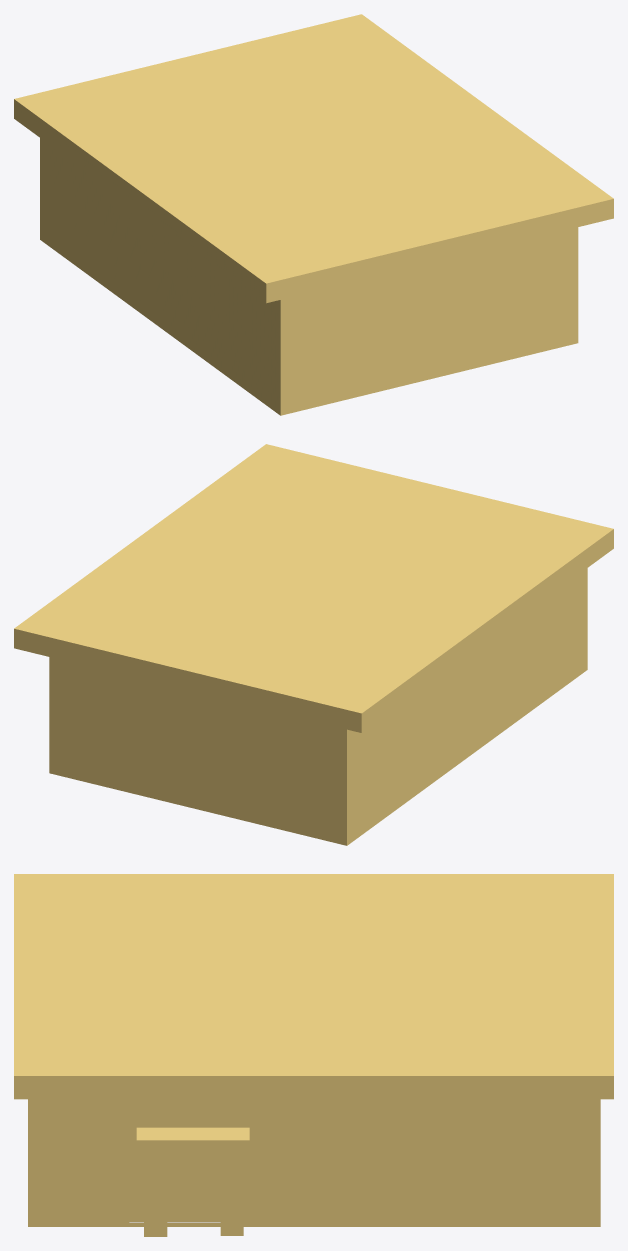
Rendered from LIBNav.glb.
3 renders of one model, top to bottom at view 1: azimuth 30°, elevation 25°; view 2: azimuth 150°, elevation 25°; view 3: azimuth 270°, elevation 25°, orthographic. The views are drawn at different scales.
Visible parts, largest first — view 1: Cube.004, Cube; view 2: Cube.004, Cube; view 3: Cube.004, Cube, Cube.001, Cube.002.
Part boxes in pixels (<box>): Cube.004: <box>14,14,613,303</box>; Cube: <box>40,138,578,415</box>; Cube.004: <box>14,444,613,732</box>; Cube: <box>49,568,587,845</box>; Cube.004: <box>14,874,613,1164</box>; Cube: <box>28,1099,600,1226</box>; Cube.001: <box>144,1165,167,1236</box>; Cube.002: <box>220,1165,243,1235</box>.
Size of the model in its own units: 11.68 by 4.54 by 14.67.
